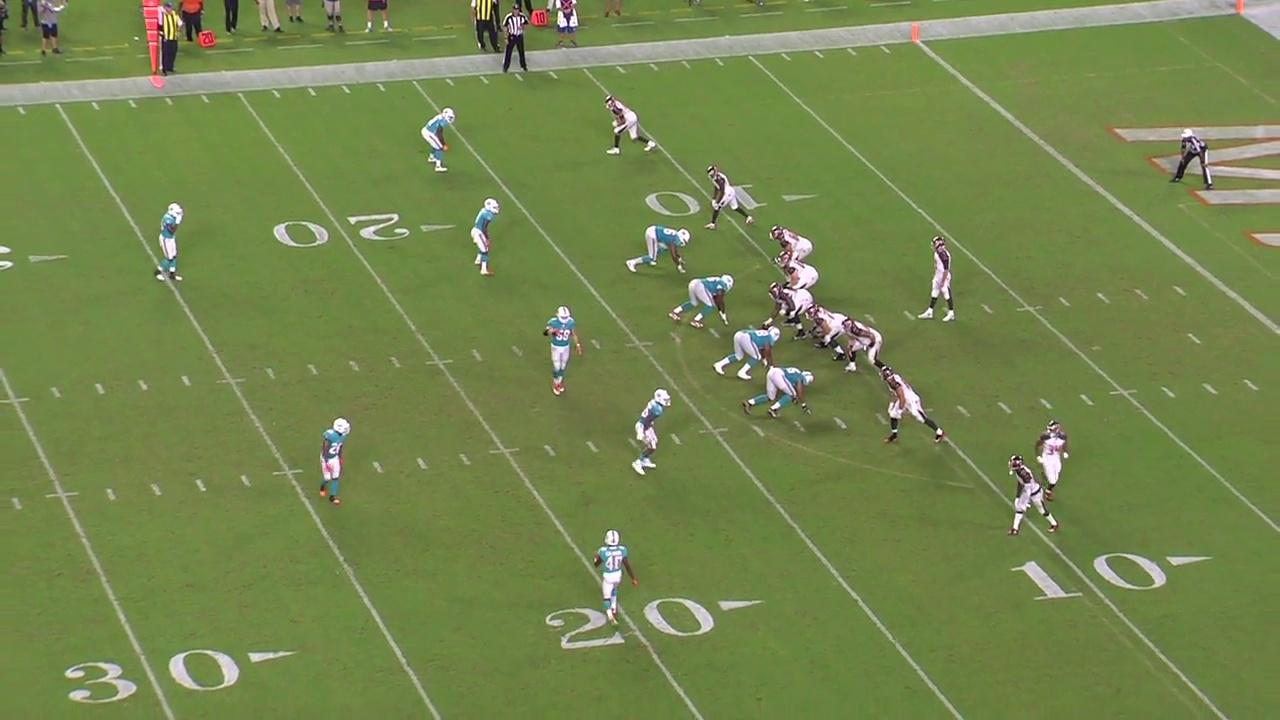five_hash: (42, 490, 83, 502), (214, 374, 249, 387), (486, 445, 524, 456), (1108, 387, 1142, 398), (269, 466, 306, 476), (695, 426, 732, 436), (422, 357, 455, 368), (0, 395, 36, 405), (624, 339, 655, 349), (1015, 303, 1046, 313)
hash: (466, 346, 489, 369), (365, 455, 388, 478), (790, 418, 813, 440), (539, 442, 562, 464), (454, 449, 476, 472), (669, 431, 691, 453), (1239, 374, 1260, 397), (1157, 382, 1180, 403), (993, 397, 1016, 418), (661, 326, 685, 346), (342, 356, 366, 376), (582, 437, 604, 458), (411, 454, 432, 476), (746, 421, 769, 441), (191, 474, 211, 497), (88, 378, 109, 399), (1202, 379, 1222, 400), (6, 494, 26, 515), (147, 479, 166, 501), (45, 383, 68, 401), (1131, 286, 1151, 306), (1078, 391, 1098, 411), (829, 413, 850, 432), (260, 365, 281, 384), (1036, 395, 1056, 414), (386, 351, 405, 371), (133, 377, 152, 397), (236, 472, 256, 491), (101, 484, 120, 504), (176, 373, 197, 391), (953, 403, 975, 420), (978, 302, 996, 321), (304, 360, 322, 379), (1095, 289, 1112, 309), (1171, 283, 1188, 301), (901, 308, 918, 326), (1057, 293, 1072, 310), (587, 337, 604, 352), (510, 343, 526, 358), (862, 310, 878, 324)
marker: (143, 0, 165, 75)
number: (57, 644, 244, 706), (542, 593, 717, 653), (1007, 547, 1172, 604), (268, 209, 414, 255)
player: (910, 23, 920, 41), (1235, 0, 1245, 14)
